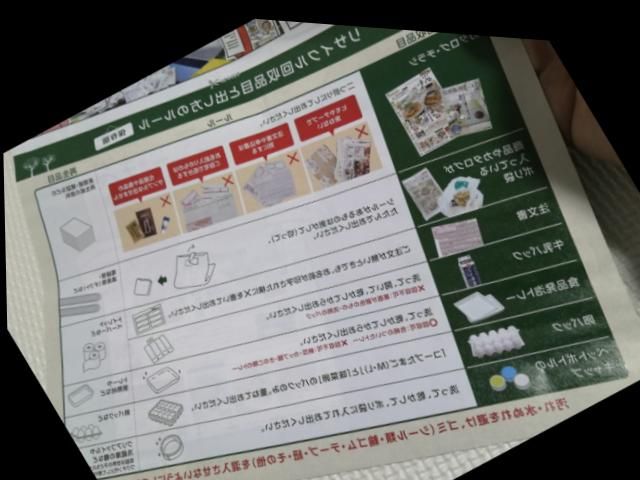paper: (26, 16, 639, 469)
